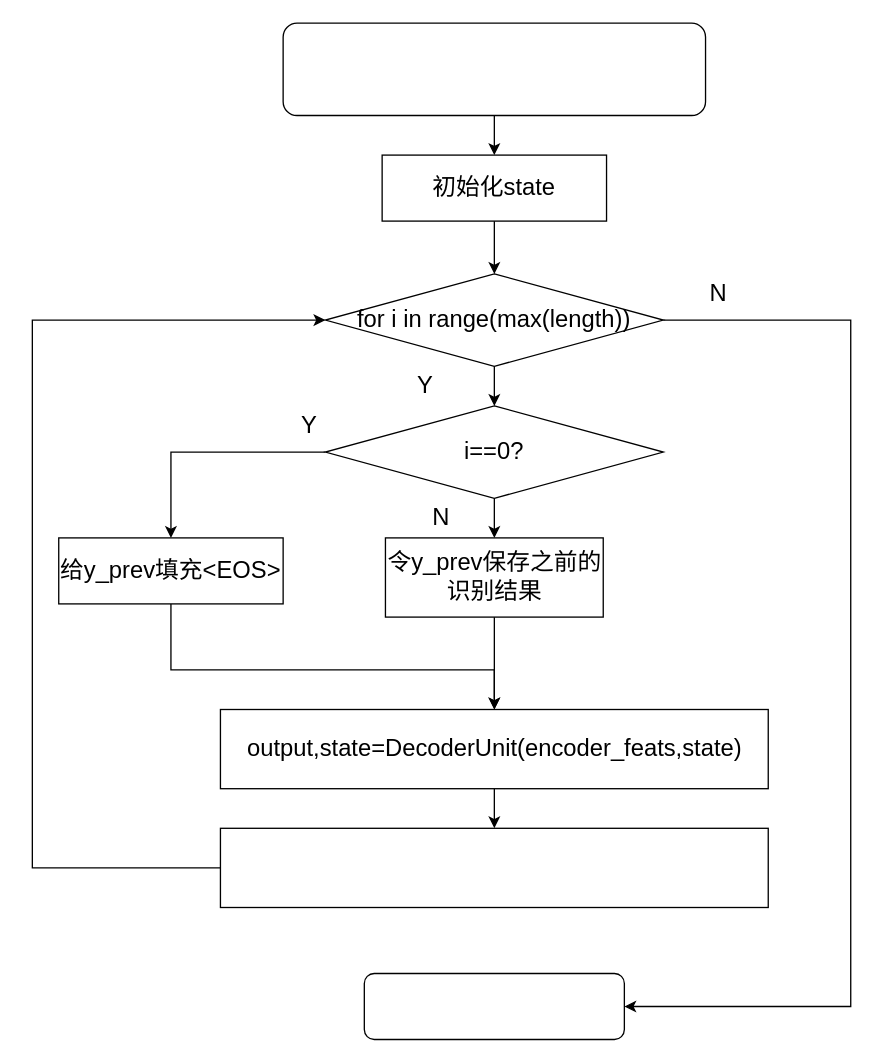
Image size: 884x1063. Some labels were removed from this diagram. Each missing label, with the box of its shape:
outputs.append(output): (219, 827, 768, 908)
return outputs: (363, 972, 624, 1040)
调用AttentionRecognitionHead的forward(encoder_feats,targets,lengths): (282, 22, 706, 116)
